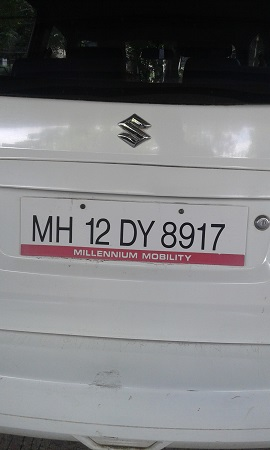licenseplate: (20, 193, 248, 269)
